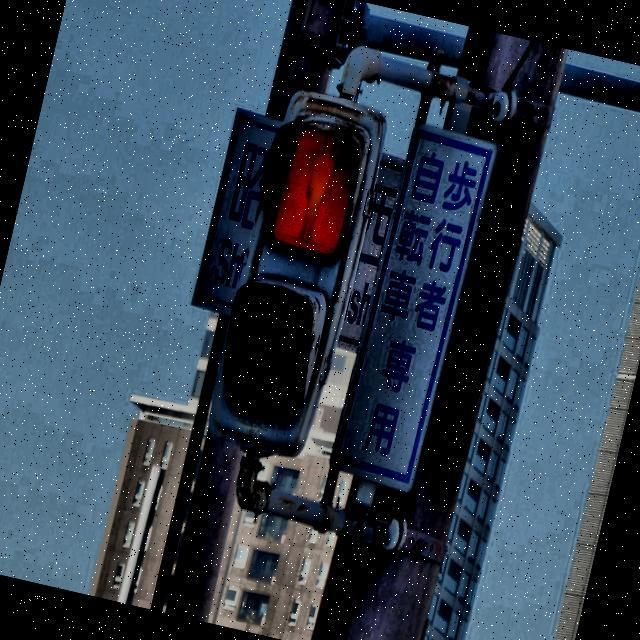red_light: (288, 126, 344, 249)
